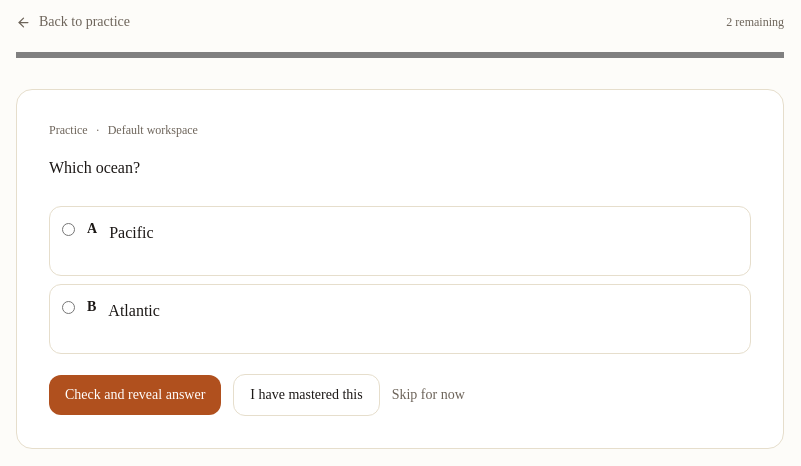
Test: loads and saves equal question IDs in their own workspaces
The image size is (801, 466).
Click the button "I have mastered this" at {"x": 306, "y": 395}, box [233,374,380,416]
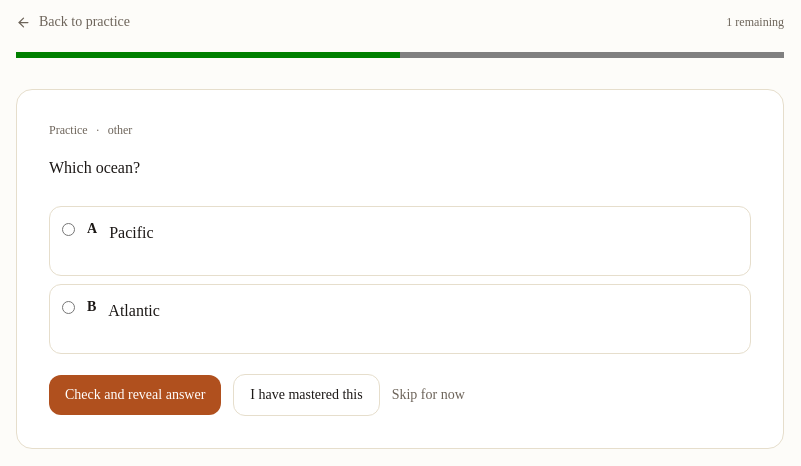
Click the button "I have mastered this" at {"x": 306, "y": 395}, box [233,374,380,416]
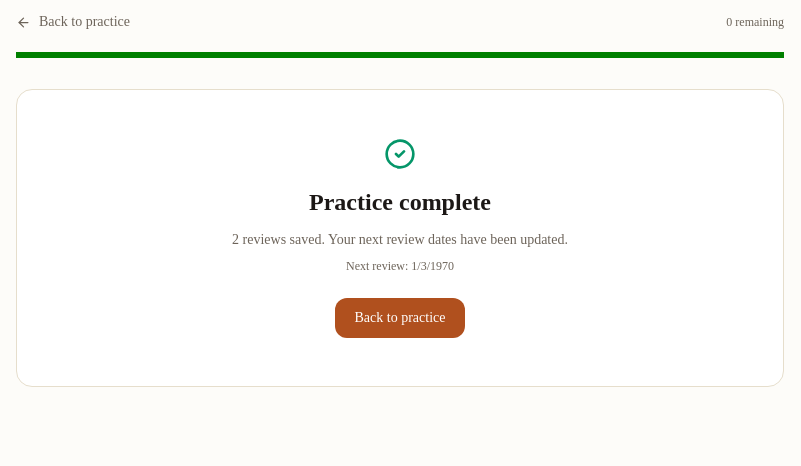
Expected: the heading "Practice complete" is shown, [309,189,491,215]
